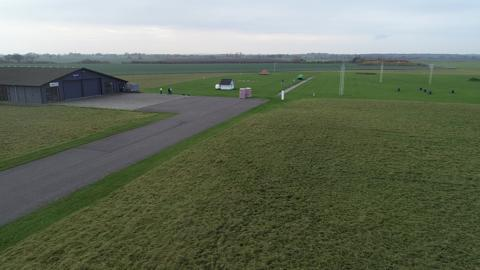RockwoolPallet: (246, 87, 252, 99)
